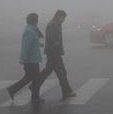person: (28, 9, 78, 100), (6, 12, 47, 104)
